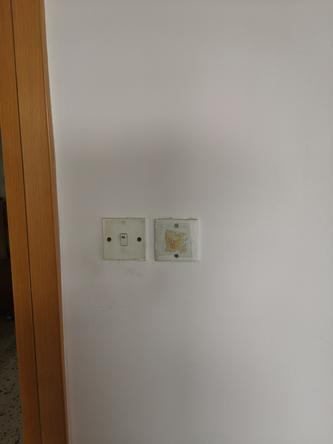switch: (116, 230, 134, 251)
